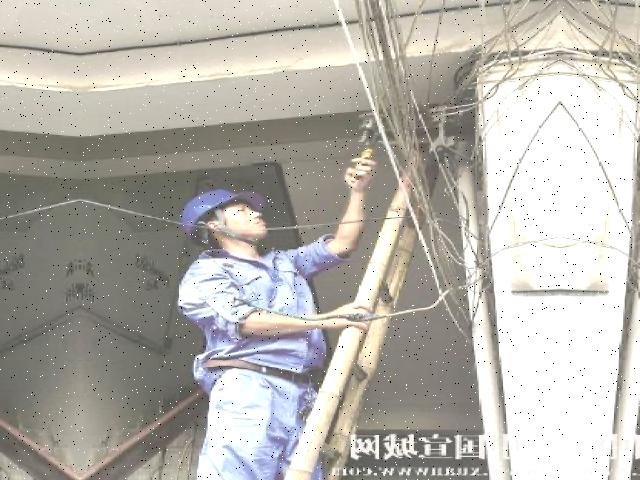Helmet: (172, 184, 257, 242)
